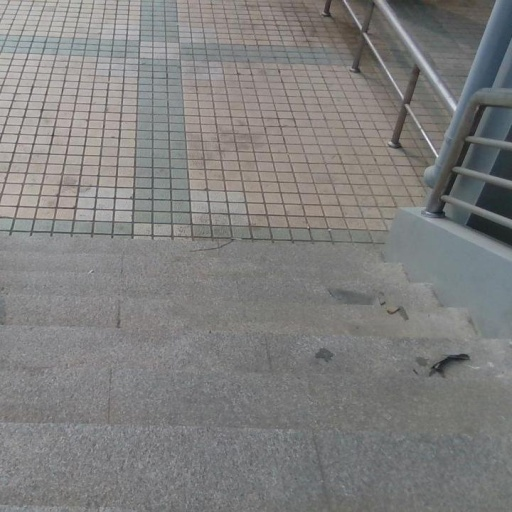Stairs: (0, 234, 512, 512)
